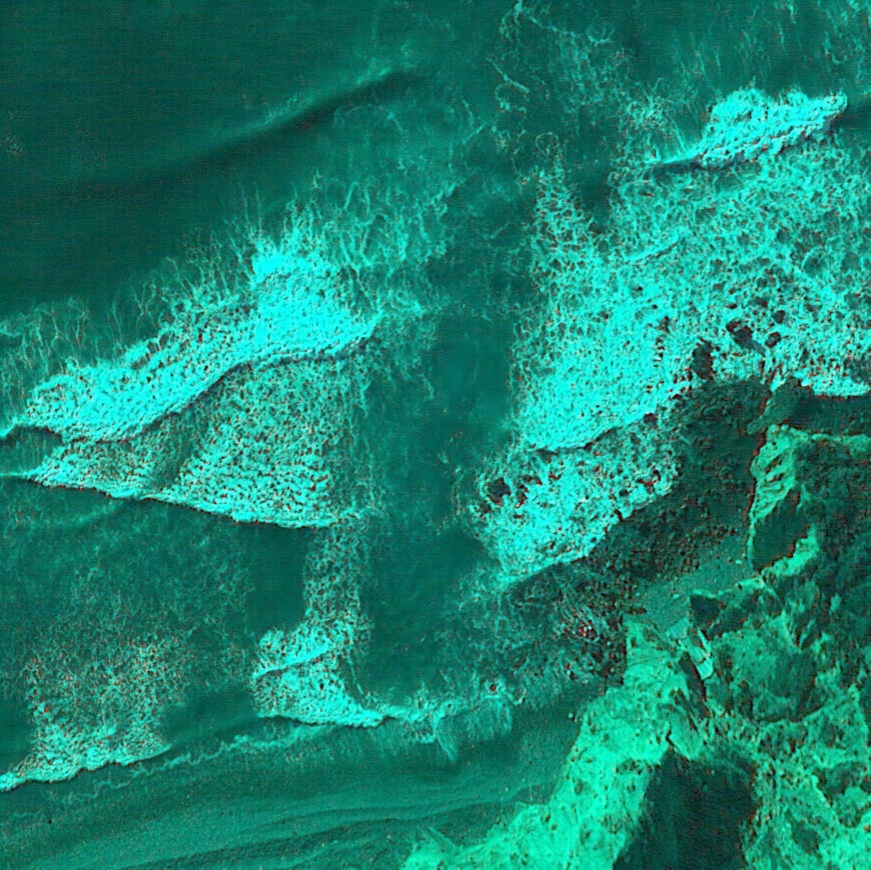rip_current: (302, 125, 542, 653)
